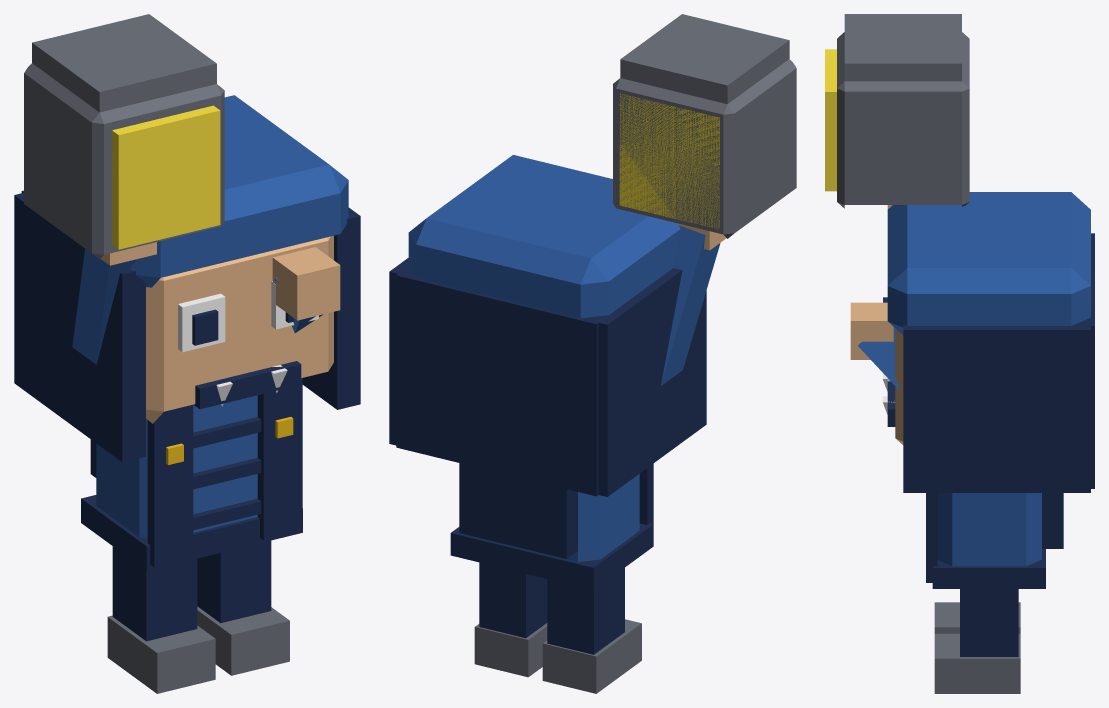
File: blinder_r13.glb
The picture shows the model from 3 angles, left to right: view 1: azimuth 30°, elevation 25°; view 2: azimuth 150°, elevation 25°; view 3: azimuth 270°, elevation 25°; orthographic projection. The views are drawn at different scales.
Parts seen in each view (by area): view 1: blinder_r13_mesh; view 2: blinder_r13_mesh; view 3: blinder_r13_mesh.
Part boxes in pixels (left/top/right/bottom): blinder_r13_mesh: left=14, top=14, right=360, bottom=693; blinder_r13_mesh: left=389, top=14, right=796, bottom=693; blinder_r13_mesh: left=825, top=14, right=1094, bottom=693.
Bounding box in the file's own units: 0.7607 × 1.6 × 0.6773.
1 material, 1 textured.
